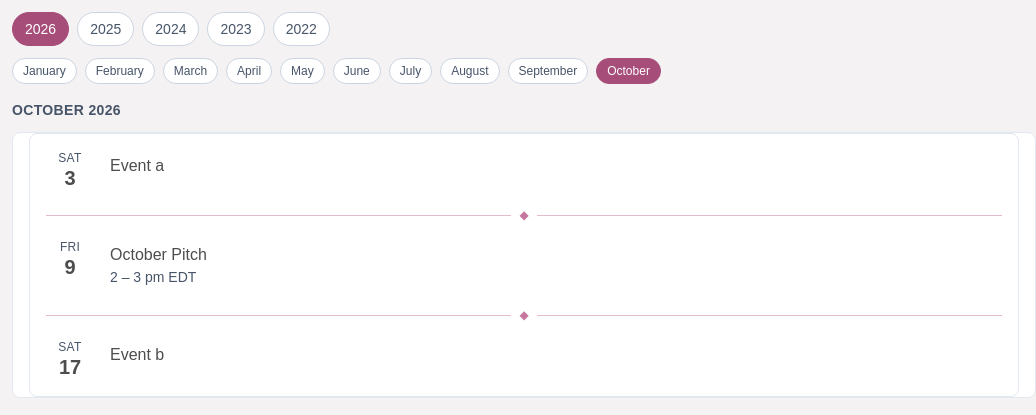
Scenario: PastEventsBrowser › also fetches for a year pill, and opens that year's latest month
Click the button "2022" at (301, 29), box top-left (273, 12), bottom-right (330, 46)
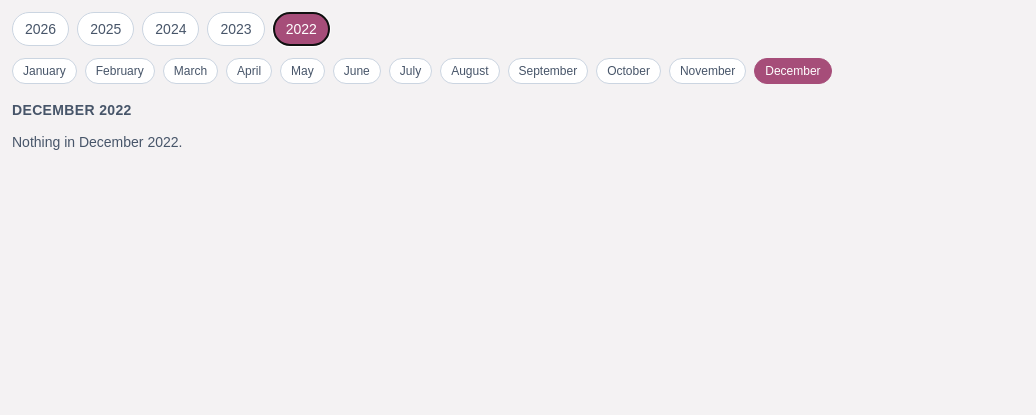
Expected: the element "December 2022" is shown, top-left (12, 102), bottom-right (182, 150)
